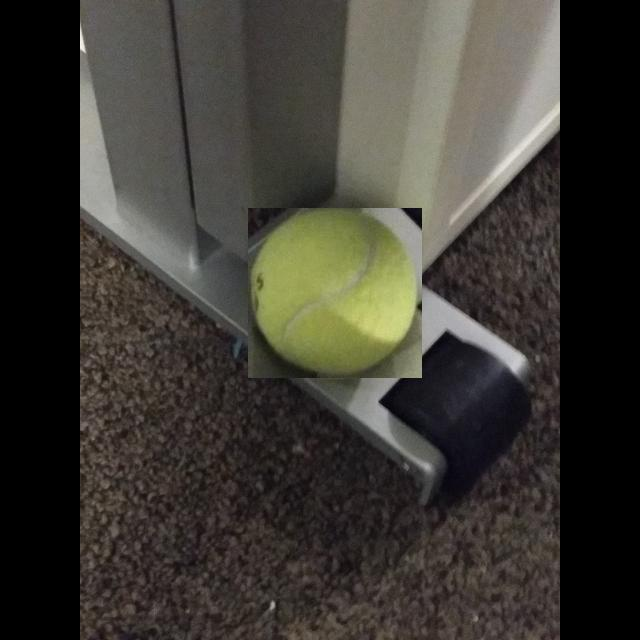tennis ball: (248, 208, 422, 378)
